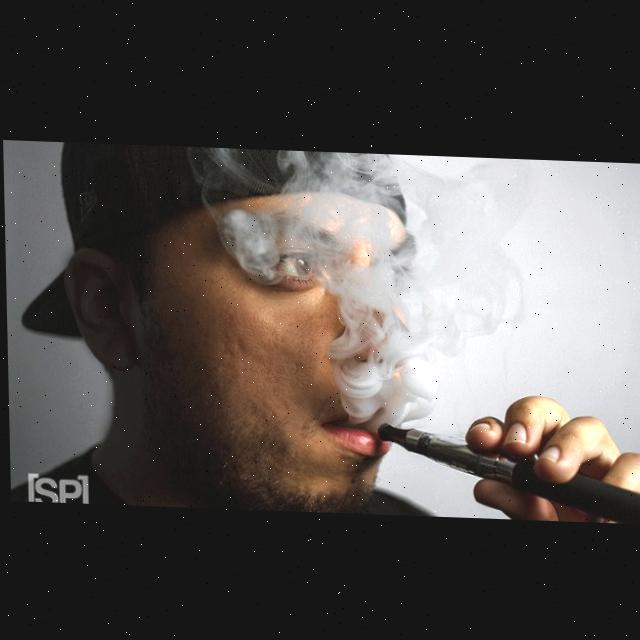vape: (374, 417, 640, 519)
